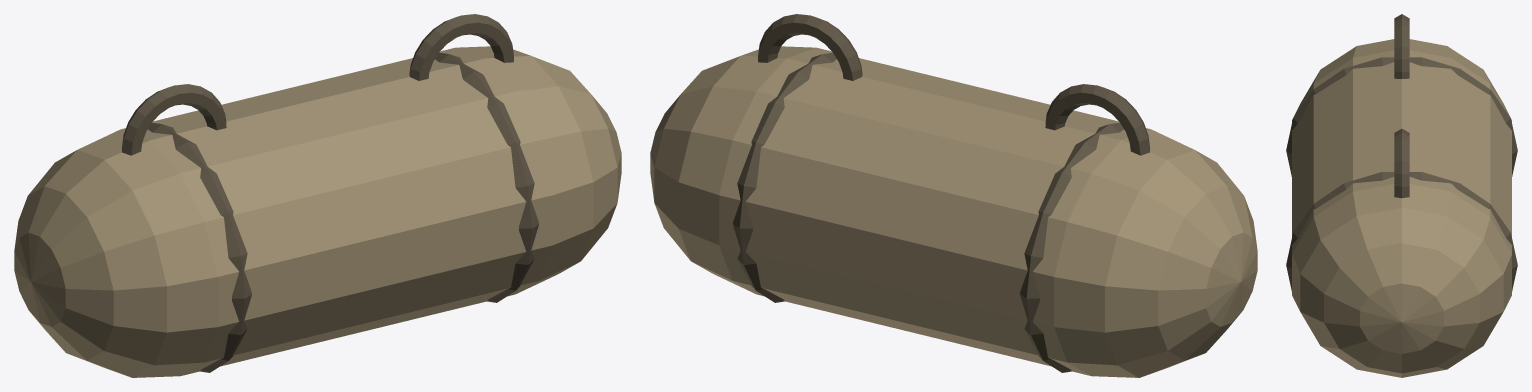
The model's file is prop.sandbag.glb.
3 renders of one model, left to right at view 1: azimuth 30°, elevation 25°; view 2: azimuth 150°, elevation 25°; view 3: azimuth 270°, elevation 25°, orthographic. The views are drawn at different scales.
Visible parts, largest first — view 1: prop.sandbag; view 2: prop.sandbag; view 3: prop.sandbag.
Part boxes in pixels (x1,y1,x2,y2): prop.sandbag: [14, 14, 621, 377]; prop.sandbag: [650, 14, 1257, 377]; prop.sandbag: [1286, 14, 1517, 377].
Bounding box in the file's own units: 0.6 × 0.2749 × 0.2565.
